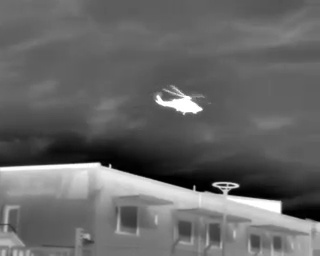HELICOPTER: (152, 79, 215, 123)
